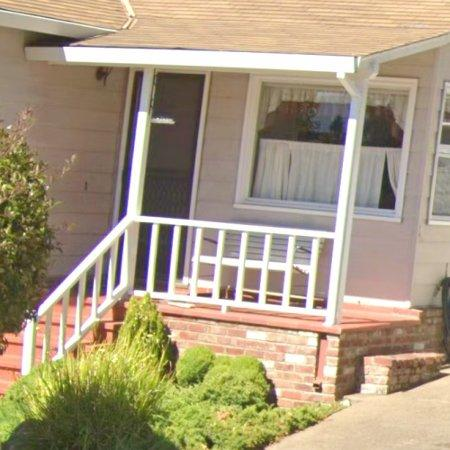stairs: (0, 231, 136, 397)
